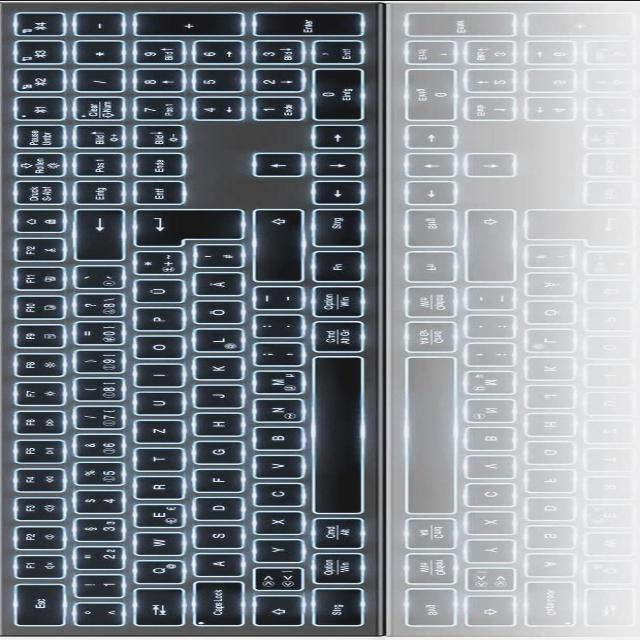0: (69, 322, 121, 347)
1: (68, 576, 120, 600)
2: (69, 548, 121, 572)
3: (68, 519, 122, 543)
4: (69, 491, 121, 516)
5: (69, 462, 121, 487)
6: (69, 434, 121, 459)
7: (70, 406, 122, 431)
8: (70, 378, 122, 403)
9: (68, 350, 122, 375)
a: (188, 555, 240, 579)
accent: (68, 266, 120, 290)
ae: (187, 274, 239, 298)
alt-left: (307, 519, 361, 551)
altgr-right: (307, 322, 359, 354)
b: (247, 428, 299, 453)
c: (248, 484, 300, 509)
caret: (68, 603, 120, 627)
comma: (247, 344, 299, 368)
d: (187, 498, 239, 523)
del: (68, 211, 120, 263)
e: (129, 504, 181, 529)
enter: (127, 210, 241, 249)
f: (187, 470, 239, 494)
g: (187, 442, 239, 466)
h: (187, 414, 239, 438)
hash: (187, 246, 239, 270)
i: (129, 365, 179, 389)
j: (187, 386, 239, 410)
k: (187, 358, 239, 383)
keyboard: (0, 3, 390, 637)
l: (187, 330, 239, 354)
less: (247, 568, 299, 594)
m: (247, 372, 299, 397)
minus: (247, 288, 299, 313)
n: (247, 399, 299, 424)
o: (128, 337, 180, 361)
oe: (188, 302, 240, 326)
p: (128, 309, 180, 333)
plus: (128, 253, 180, 277)
point: (247, 316, 299, 340)
q: (129, 561, 181, 586)
r: (128, 477, 180, 501)
s: (188, 526, 240, 550)
shift-left: (248, 597, 300, 629)
shift-lock: (187, 582, 241, 628)
shift-right: (246, 210, 298, 284)
space: (306, 358, 360, 516)
ss: (69, 294, 121, 319)
strg-left: (310, 586, 364, 626)
strg-right: (306, 209, 360, 249)
t: (128, 449, 180, 473)
tab: (129, 589, 181, 629)
u: (129, 393, 181, 417)
ue: (129, 280, 181, 305)
v: (247, 456, 299, 480)
w: (128, 533, 180, 557)
x: (247, 512, 299, 536)
y: (248, 540, 300, 564)
z: (129, 421, 181, 445)
